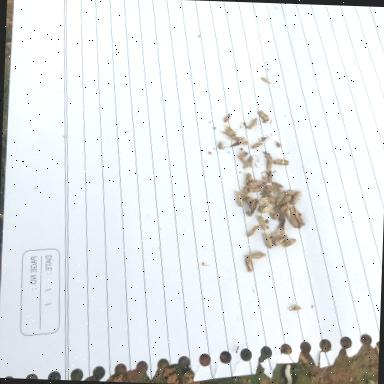pbw: (248, 250, 270, 264), (272, 152, 290, 168), (268, 226, 289, 239), (219, 122, 238, 136), (246, 198, 260, 216), (293, 205, 305, 225), (272, 233, 288, 246), (264, 156, 274, 176), (274, 190, 286, 206), (264, 184, 282, 194), (260, 202, 276, 213), (263, 232, 274, 248), (278, 200, 292, 212), (257, 215, 268, 230), (244, 254, 253, 272), (278, 212, 287, 230), (288, 212, 298, 228), (236, 190, 246, 206), (256, 109, 269, 121), (246, 224, 258, 237), (282, 237, 296, 248), (241, 186, 250, 203), (259, 196, 277, 204), (292, 190, 302, 204), (248, 117, 258, 130), (244, 172, 253, 186), (249, 140, 262, 149), (284, 208, 292, 222), (228, 135, 245, 141), (271, 210, 280, 221), (247, 186, 263, 192), (271, 181, 284, 187), (246, 196, 253, 207), (263, 190, 275, 196), (285, 190, 297, 196), (224, 112, 231, 122)
